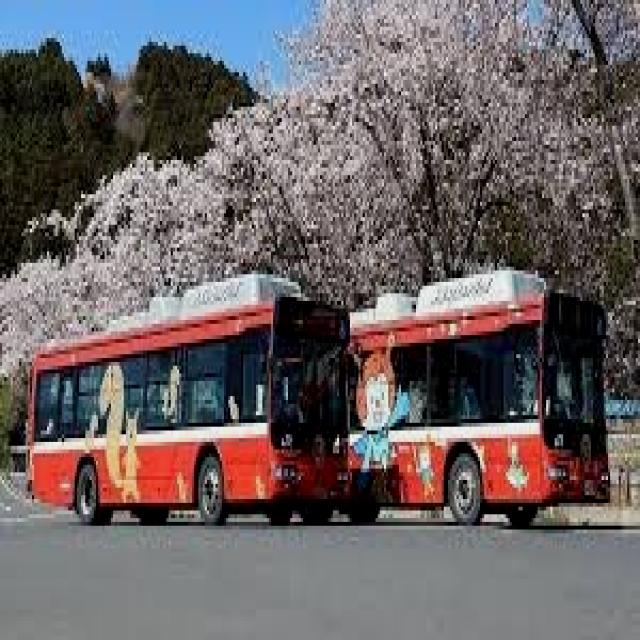bus: (13, 275, 359, 522), (354, 252, 619, 560)
